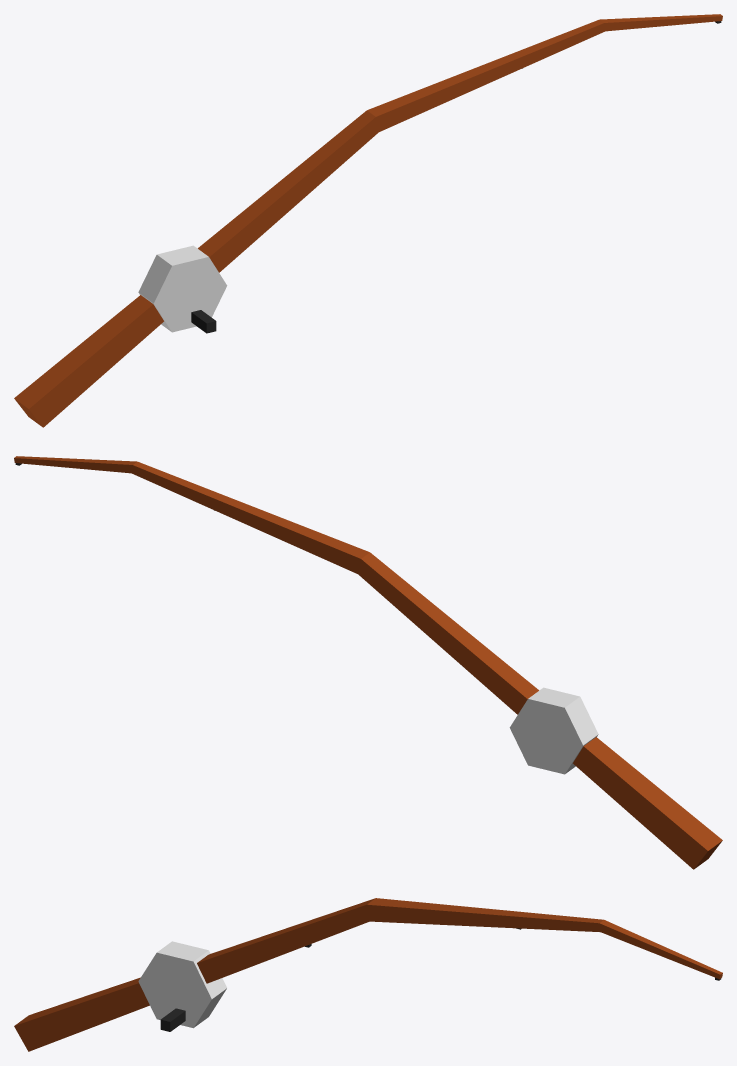
Rendered from Fishing Pole.fbx.
The picture shows the model from 3 angles, top to bottom: view 1: azimuth 30°, elevation 25°; view 2: azimuth 150°, elevation 25°; view 3: azimuth 330°, elevation 25°; orthographic projection.
Parts seen in each view (by area): view 1: Cube; view 2: Cube; view 3: Cube.
Part boxes in pixels (<box>): Cube: <box>14,14,722,427</box>; Cube: <box>14,456,722,869</box>; Cube: <box>14,898,722,1051</box>.
Bounding box in the file's own units: 700 × 251 × 53.23.
